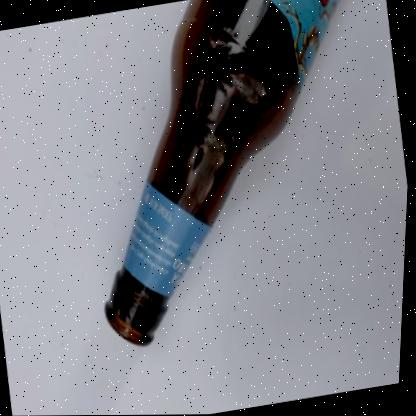Glass: (108, 0, 339, 346)
